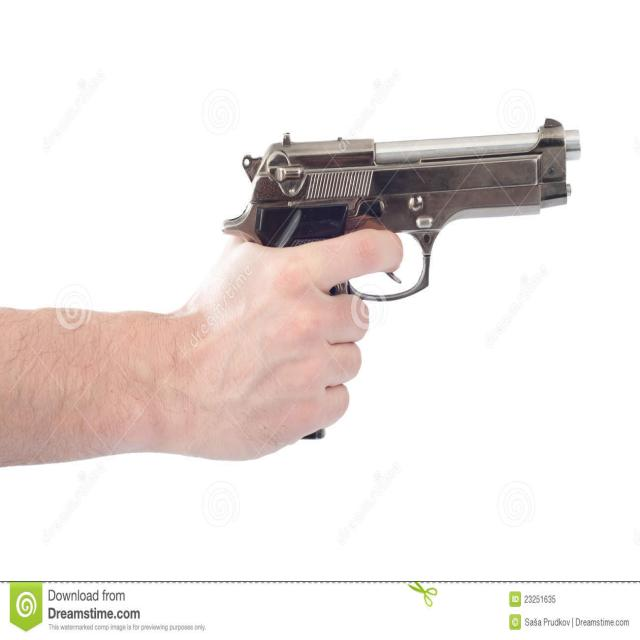HandGun: (223, 119, 581, 302)
